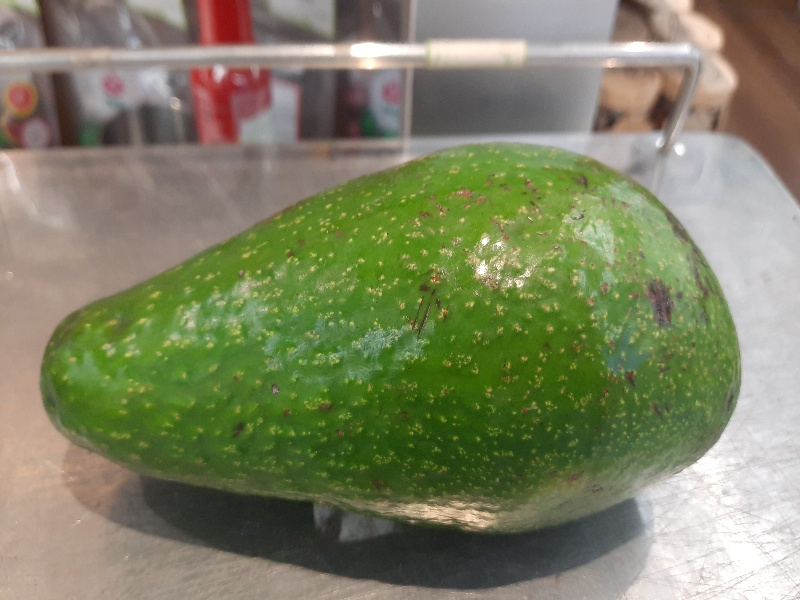fruit: (37, 140, 743, 539)
